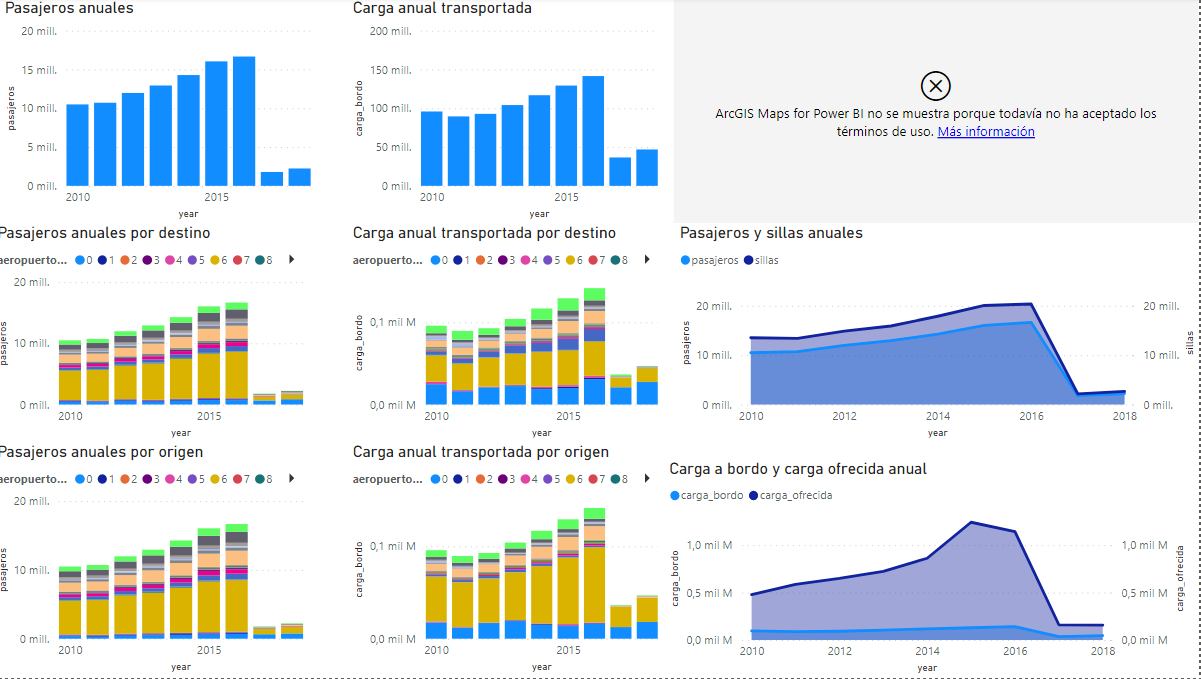

The dashboard page shown, as its layout file describes it:
{"tool":"powerbi","page":{"name":"Vuelos","canvas":[1280,720],"ordinal":0},"visuals":[{"type":"columnChart","title":"Pasajeros anuales","fields":{"Category":["fecha.year"],"Y":["Sum(fact_vuelo.pasajeros)"]},"box":[9.6,0,336.5,239],"z":0},{"type":"columnChart","title":"Carga anual transportada","fields":{"Category":["fecha.year"],"Y":["Sum(fact_vuelo.carga_bordo)"]},"box":[377.7,0,336.5,239],"z":1000},{"type":"columnChart","title":"Pasajeros anuales por destino","fields":{"Category":["fecha.year"],"Y":["Sum(fact_vuelo.pasajeros)"],"Series":["fact_vuelo.aeropuerto_destino_key"]},"box":[1.4,239,336.5,232.1],"z":2000},{"type":"columnChart","title":"Carga anual transportada por destino","fields":{"Category":["fecha.year"],"Y":["Sum(fact_vuelo.carga_bordo)"],"Series":["fact_vuelo.aeropuerto_destino_key"]},"box":[377.7,239,336.5,232.1],"z":3000},{"type":"columnChart","title":"Pasajeros anuales por origen","fields":{"Category":["fecha.year"],"Y":["Sum(fact_vuelo.pasajeros)"],"Series":["fact_vuelo.aeropuerto_origen_key"]},"box":[1.4,471.1,336.5,248.6],"z":4000},{"type":"columnChart","title":"Carga anual transportada por origen","fields":{"Category":["fecha.year"],"Series":["fact_vuelo.aeropuerto_origen_key"],"Y":["Sum(fact_vuelo.carga_bordo)"]},"box":[377.7,471.1,336.5,248.6],"z":5000},{"type":"esriVisual","title":"Ubicaciones y categorías","fields":{"Latitude":["aeropuerto.latitud"],"Longitude":["aeropuerto.longitud"],"Color":["aeropuerto.categoria"]},"box":[723.8,0,556.2,239],"z":6000},{"type":"areaChart","title":"Pasajeros y sillas anuales","fields":{"Category":["fecha.year"],"Y":["Sum(fact_vuelo.pasajeros)"],"Y2":["Sum(fact_vuelo.sillas)"]},"box":[724,239,556,232],"z":7000},{"type":"areaChart","title":"Carga a bordo y carga ofrecida anual","fields":{"Category":["fecha.year"],"Y":["Sum(fact_vuelo.carga_bordo)"],"Y2":["Sum(fact_vuelo.carga_ofrecida)"]},"box":[714.2,487.6,556.2,232.1],"z":8000}]}

Visuals, with their boxes in screenshot pixels (x1, y1, x2, y2), scaled from the page's 1280x720 canvas onto the 1201x679 screenshot:
"Pasajeros anuales" columnChart: left=9, top=0, right=325, bottom=225
"Carga anual transportada" columnChart: left=354, top=0, right=670, bottom=225
"Pasajeros anuales por destino" columnChart: left=1, top=225, right=317, bottom=444
"Carga anual transportada por destino" columnChart: left=354, top=225, right=670, bottom=444
"Pasajeros anuales por origen" columnChart: left=1, top=444, right=317, bottom=678
"Carga anual transportada por origen" columnChart: left=354, top=444, right=670, bottom=678
"Ubicaciones y categorías" esriVisual: left=679, top=0, right=1200, bottom=225
"Pasajeros y sillas anuales" areaChart: left=679, top=225, right=1200, bottom=444
"Carga a bordo y carga ofrecida anual" areaChart: left=670, top=460, right=1192, bottom=678
